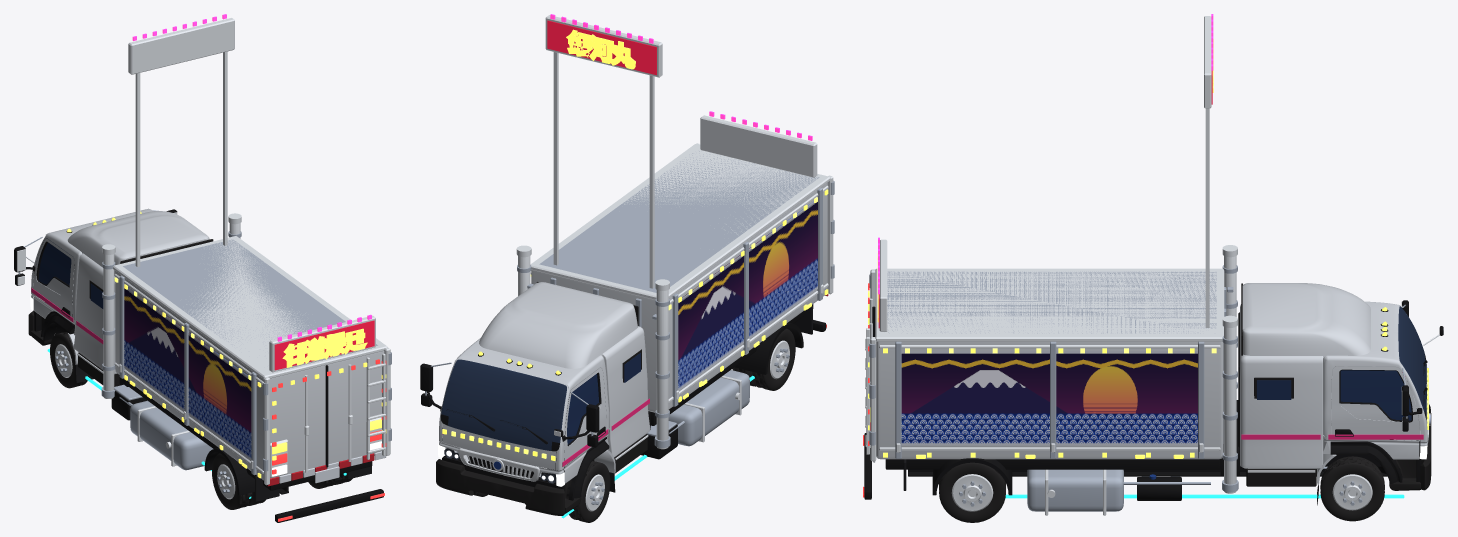
The model's file is dekotora_truck_leve_chata.glb.
3 renders of one model, left to right at view 1: azimuth 30°, elevation 25°; view 2: azimuth 150°, elevation 25°; view 3: azimuth 270°, elevation 25°, orthographic. The views are drawn at different scales.
Visible parts, largest first — view 1: truck_chrome, truck_paint_white_panel, truck_steel, truck_mural, truck_plastic_black, truck_lamp_amber, wheel_r_L_1.5_1.06, truck_glass, wheel_f_L, truck_plastic_trim, truck_andon_panel, truck_rubber (+3 smaller); view 2: truck_paint_white_panel, truck_chrome, truck_steel, truck_mural, truck_glass_wind, truck_plastic_black, truck_plastic_trim, truck_lamp_amber, truck_andon_panel, wheel_f_L, wheel_r_L_1.5_1.06, truck_glass (+1 smaller); view 3: truck_chrome, truck_paint_white_panel, truck_mural, truck_steel, truck_plastic_black, wheel_f_R, wheel_r_R_1.5_1.06, truck_glass, truck_plastic_trim, truck_glass_wind, truck_lamp_amber, truck_paint_pink (+1 smaller).
Part boxes in pixels (bbox=[...]): truck_chrome: bbox=[17, 18, 390, 485]; truck_paint_white_panel: bbox=[31, 208, 384, 480]; truck_steel: bbox=[18, 210, 391, 475]; truck_mural: bbox=[124, 288, 251, 460]; truck_plastic_black: bbox=[14, 209, 383, 522]; truck_lamp_amber: bbox=[67, 211, 386, 478]; wheel_r_L_1.5_1.06: bbox=[212, 453, 252, 509]; truck_glass: bbox=[38, 242, 103, 308]; wheel_f_L: bbox=[50, 332, 87, 388]; truck_plastic_trim: bbox=[28, 239, 213, 386]; truck_andon_panel: bbox=[274, 320, 374, 370]; truck_rubber: bbox=[75, 364, 371, 501]; truck_paint_white_panel: bbox=[439, 182, 827, 483]; truck_chrome: bbox=[432, 15, 833, 481]; truck_steel: bbox=[425, 151, 834, 447]; truck_mural: bbox=[678, 201, 817, 390]; truck_glass_wind: bbox=[441, 359, 566, 450]; truck_plastic_black: bbox=[420, 304, 826, 500]; truck_plastic_trim: bbox=[436, 282, 647, 515]; truck_lamp_amber: bbox=[442, 29, 828, 460]; truck_andon_panel: bbox=[547, 20, 656, 75]; wheel_f_L: bbox=[569, 461, 610, 522]; wheel_r_L_1.5_1.06: bbox=[750, 328, 795, 390]; truck_glass: bbox=[567, 353, 640, 444]; truck_chrome: bbox=[865, 16, 1443, 515]; truck_paint_white_panel: bbox=[876, 283, 1427, 485]; truck_mural: bbox=[901, 351, 1197, 445]; truck_steel: bbox=[869, 265, 1407, 511]; truck_plastic_black: bbox=[864, 300, 1443, 500]; wheel_f_R: bbox=[1320, 456, 1384, 521]; wheel_r_R_1.5_1.06: bbox=[939, 462, 1005, 522]; truck_glass: bbox=[1256, 370, 1411, 420]; truck_plastic_trim: bbox=[1241, 283, 1431, 490]; truck_glass_wind: bbox=[1398, 306, 1426, 417]; truck_lamp_amber: bbox=[868, 39, 1428, 458]; truck_paint_pink: bbox=[1241, 372, 1423, 439].
Bounding box in the file's own units: 3.33 × 7.72 × 9.02.
22 materials, 5 textured.
